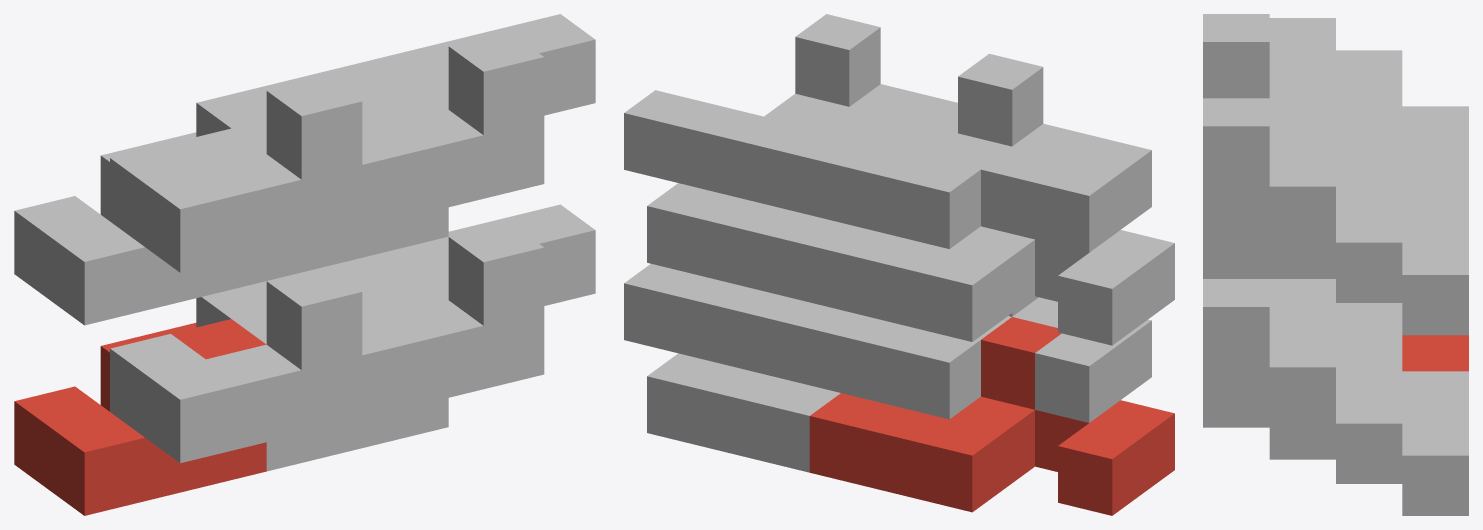
The model's file is tiling.obj.
3 views of the same model, side by side, from view 1: azimuth 30°, elevation 25°; view 2: azimuth 150°, elevation 25°; view 3: azimuth 270°, elevation 25° (orthographic). The views are drawn at different scales.
Parts seen in each view (by area): view 1: copy_1_domain_4, copy_1_domain_2, copy_1_domain_8, copy_1_domain_6, copy_1_domain_1, copy_1_domain_3, copy_1_domain_5, copy_1_domain_7; view 2: copy_1_domain_3, copy_1_domain_1, copy_1_domain_4, copy_1_domain_8, copy_1_domain_2, copy_1_domain_7, copy_1_domain_5, copy_1_domain_6; view 3: copy_1_domain_6, copy_1_domain_8, copy_1_domain_4, copy_1_domain_7, copy_1_domain_5, copy_1_domain_3, copy_1_domain_2, copy_1_domain_1.
Boxes of the visible parts, x1,y1,x2,y2 form: copy_1_domain_4: (110, 58, 412, 272); copy_1_domain_2: (110, 252, 412, 463); copy_1_domain_8: (362, 14, 595, 228); copy_1_domain_6: (362, 204, 595, 418); copy_1_domain_1: (14, 319, 266, 515); copy_1_domain_3: (14, 128, 266, 325); copy_1_domain_5: (266, 274, 448, 471); copy_1_domain_7: (266, 84, 448, 280); copy_1_domain_3: (809, 146, 1174, 345); copy_1_domain_1: (809, 317, 1174, 515); copy_1_domain_4: (786, 53, 1151, 252); copy_1_domain_8: (624, 14, 957, 209); copy_1_domain_2: (786, 296, 1151, 422); copy_1_domain_7: (647, 107, 903, 302); copy_1_domain_5: (647, 353, 840, 472); copy_1_domain_6: (624, 264, 813, 379); copy_1_domain_6: (1203, 279, 1402, 483); copy_1_domain_8: (1203, 98, 1402, 302); copy_1_domain_4: (1203, 14, 1402, 158); copy_1_domain_7: (1269, 130, 1468, 335); copy_1_domain_5: (1269, 311, 1468, 515); copy_1_domain_3: (1269, 46, 1468, 190); copy_1_domain_2: (1203, 247, 1402, 339); copy_1_domain_1: (1402, 335, 1468, 371).
Bounding box in the file's own units: 9 × 6 × 4.
